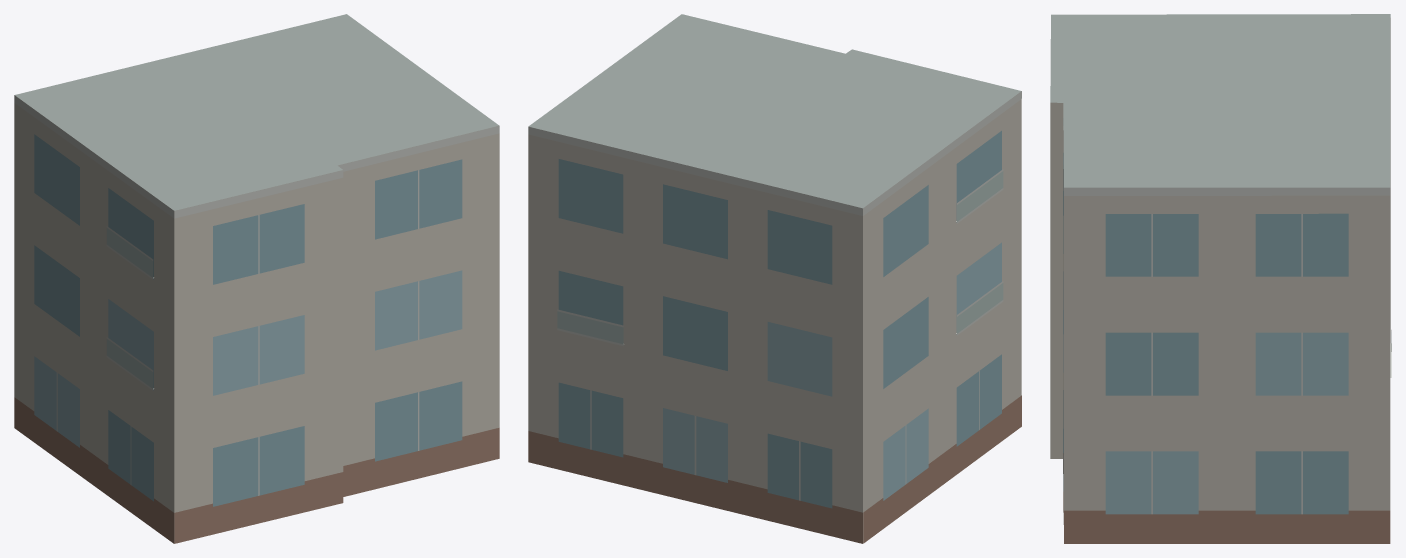
Rendered from survey-upis-32599956.glb.
3 views of the same model, side by side, from view 1: azimuth 30°, elevation 25°; view 2: azimuth 150°, elevation 25°; view 3: azimuth 270°, elevation 25° (orthographic). The views are drawn at different scales.
Parts seen in each view (by area): view 1: survey-upis-32599956.tmp; view 2: survey-upis-32599956.tmp; view 3: survey-upis-32599956.tmp.
Part boxes in pixels (<box>): survey-upis-32599956.tmp: <box>14,14,499,543</box>; survey-upis-32599956.tmp: <box>528,14,1021,543</box>; survey-upis-32599956.tmp: <box>1050,14,1391,543</box>.
Size of the model in its own units: 11 by 10.5 by 9.13.
